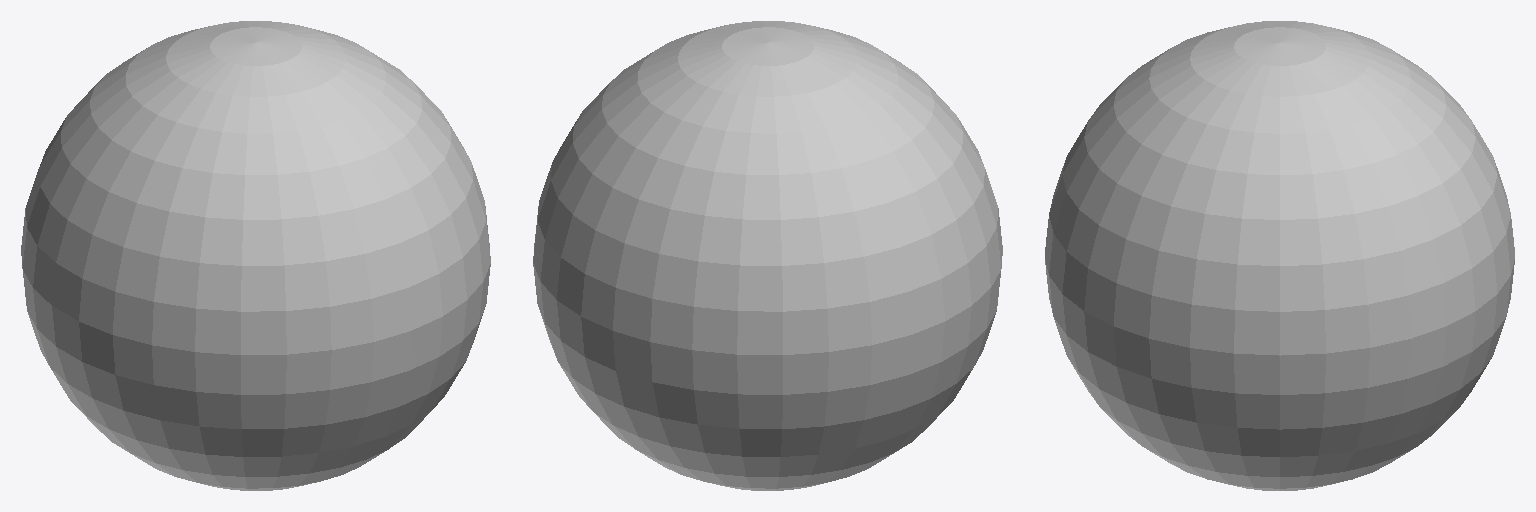
Rendered from Skydome.obj.
The picture shows the model from 3 angles: view 1: azimuth 30°, elevation 25°; view 2: azimuth 150°, elevation 25°; view 3: azimuth 270°, elevation 25°; orthographic projection.
Parts seen in each view (by area): view 1: 球; view 2: 球; view 3: 球.
Part boxes in pixels (x1,y1,x2,y2): 球: (21, 21, 490, 490); 球: (533, 21, 1002, 490); 球: (1045, 21, 1514, 490).
Bounding box in the file's own units: 2 × 2 × 2.